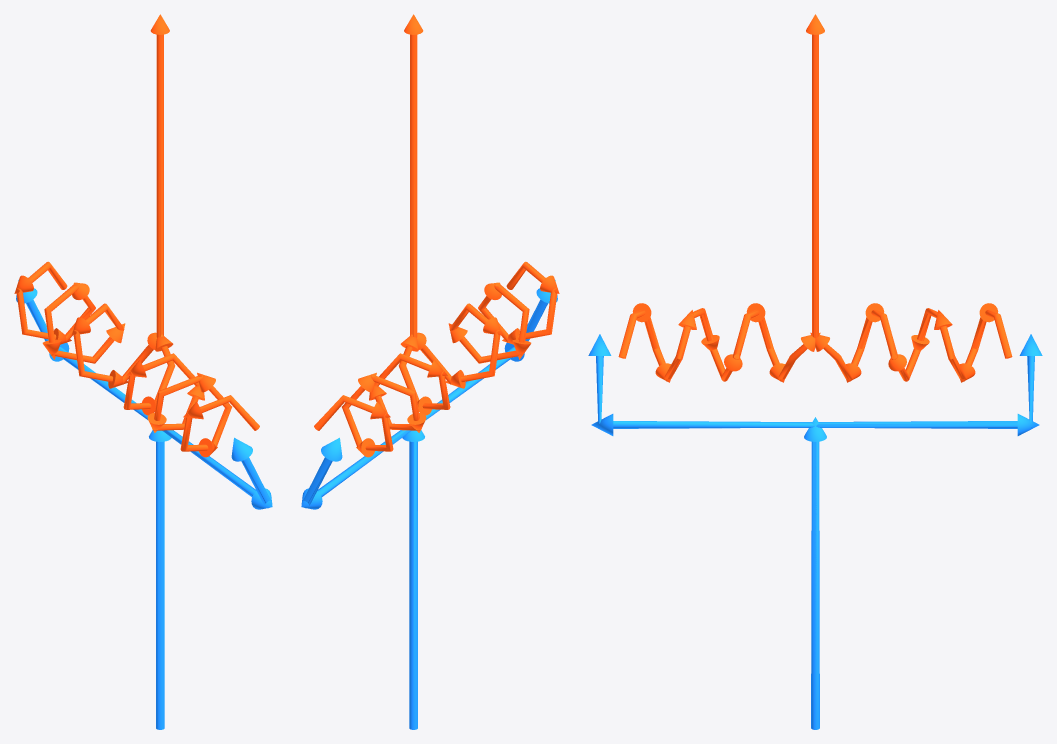
File: twin_screw_pump_flow.glb
3 renders of one model, left to right at view 1: azimuth 30°, elevation 25°; view 2: azimuth 150°, elevation 25°; view 3: azimuth 270°, elevation 25°, orthographic.
Parts seen in each view (by area): view 1: flow_conv1, flow_conv-1, flow_in-1, flow_in1; view 2: flow_conv1, flow_conv-1, flow_in1, flow_in-1; view 3: flow_conv1, flow_conv-1, flow_in1, flow_in-1.
Part boxes in pixels (x1,y1,x2,y2): flow_conv1: (123,14,259,457); flow_conv-1: (14,34,163,388); flow_in-1: (16,280,164,729); flow_in1: (149,430,272,729); flow_conv1: (404,14,559,388); flow_conv-1: (314,34,450,457); flow_in1: (402,280,557,729); flow_in-1: (301,430,417,729); flow_conv1: (618,14,824,382); flow_conv-1: (810,34,1012,382); flow_in1: (588,334,826,729); flow_in-1: (811,334,1042,729).
Size of the model in its own units: 0.1152 by 1.06 by 0.6112.
